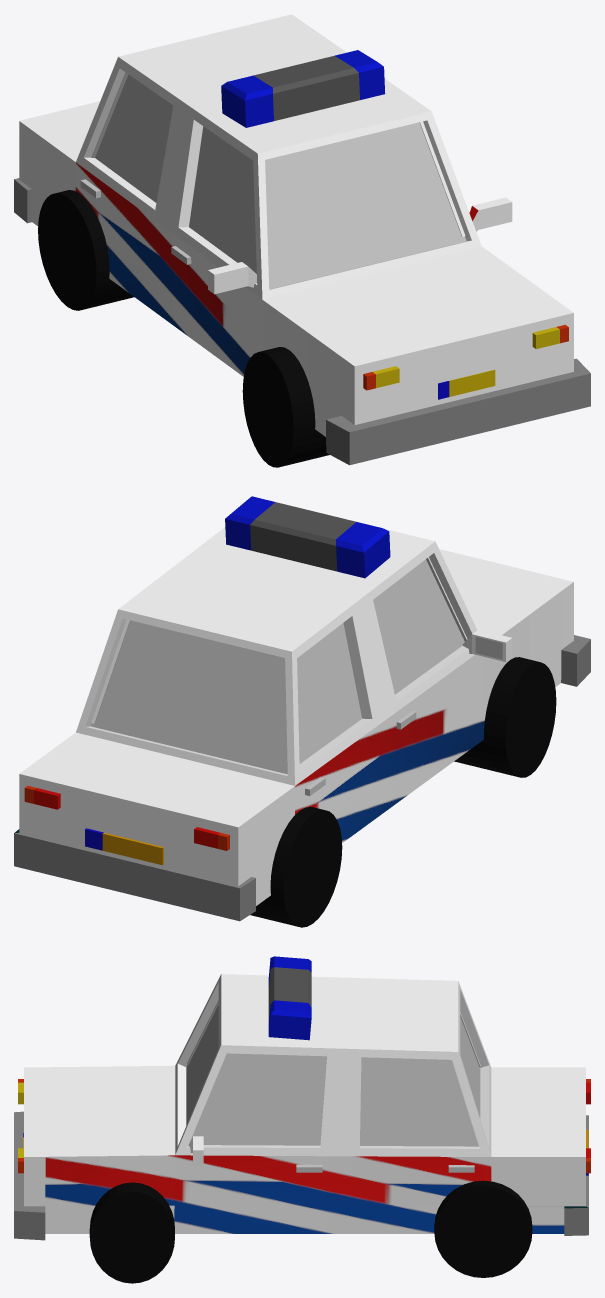
File: PolitieAuto.obj
3 views of the same model, one above another, from view 1: azimuth 30°, elevation 25°; view 2: azimuth 150°, elevation 25°; view 3: azimuth 270°, elevation 25° (orthographic). The views are drawn at different scales.
Visible parts, largest first — view 1: Car.002_Cube.002, Cylinder.008_Cylinder.009, Cylinder.009_Cylinder.010, Kubus.016, Kubus.022, Kubus.017; view 2: Car.002_Cube.002, Cylinder.008_Cylinder.009, Cylinder.009_Cylinder.010, Kubus.021, Kubus.023, Kubus.016; view 3: Car.002_Cube.002, Cylinder.009_Cylinder.010, Cylinder.008_Cylinder.009.
Boxes of the visible parts, bbox=[...] form: Car.002_Cube.002: bbox=[14, 14, 590, 465]; Cylinder.008_Cylinder.009: bbox=[242, 347, 329, 467]; Cylinder.009_Cylinder.010: bbox=[38, 190, 134, 310]; Kubus.016: bbox=[208, 197, 512, 294]; Kubus.022: bbox=[363, 324, 568, 390]; Kubus.017: bbox=[438, 369, 495, 399]; Car.002_Cube.002: bbox=[14, 496, 590, 921]; Cylinder.008_Cylinder.009: bbox=[454, 657, 556, 777]; Cylinder.009_Cylinder.010: bbox=[250, 807, 342, 927]; Kubus.021: bbox=[85, 828, 163, 865]; Kubus.023: bbox=[24, 786, 229, 850]; Kubus.016: bbox=[462, 629, 512, 661]; Car.002_Cube.002: bbox=[14, 956, 588, 1240]; Cylinder.009_Cylinder.010: bbox=[434, 1180, 532, 1277]; Cylinder.008_Cylinder.009: bbox=[89, 1182, 174, 1283].
Size of the model in its own units: 4.87 by 4.58 by 9.75.
